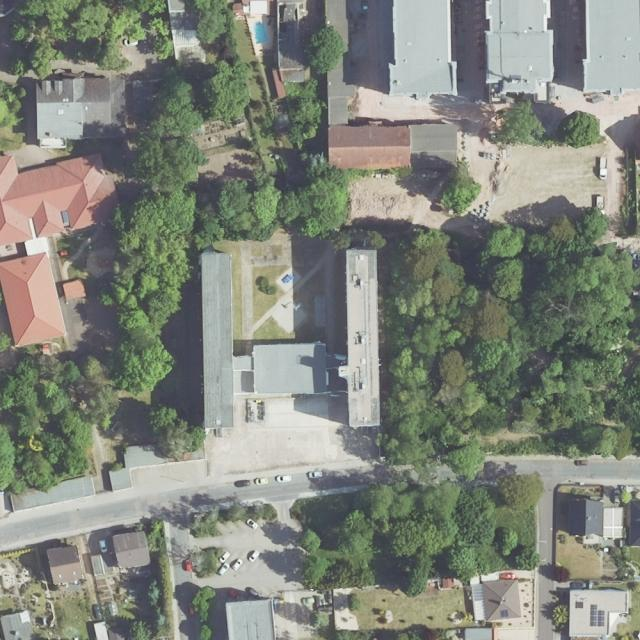PV: (589, 603, 605, 627), (501, 610, 508, 618)
